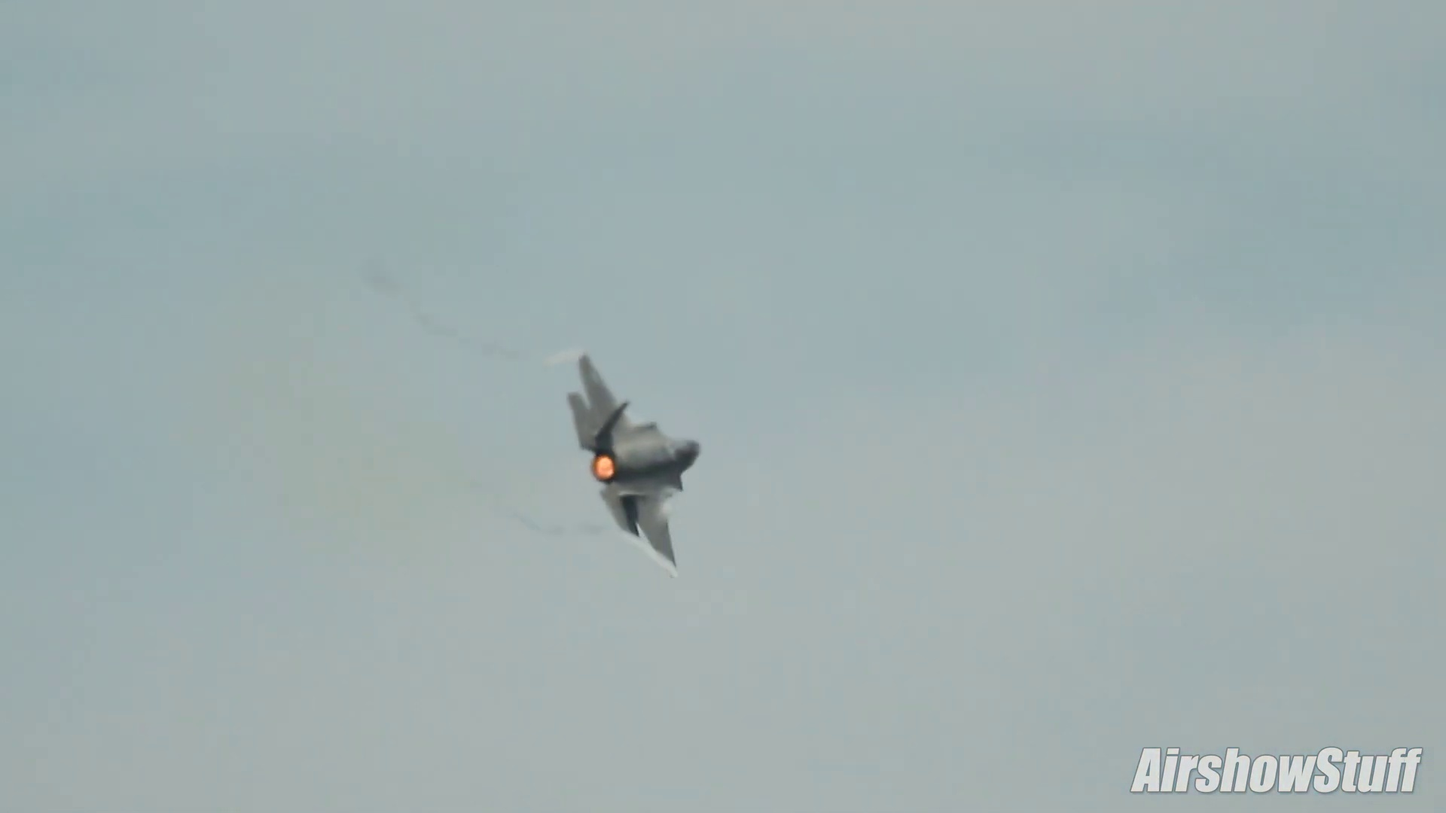F35: (551, 349, 712, 574)
